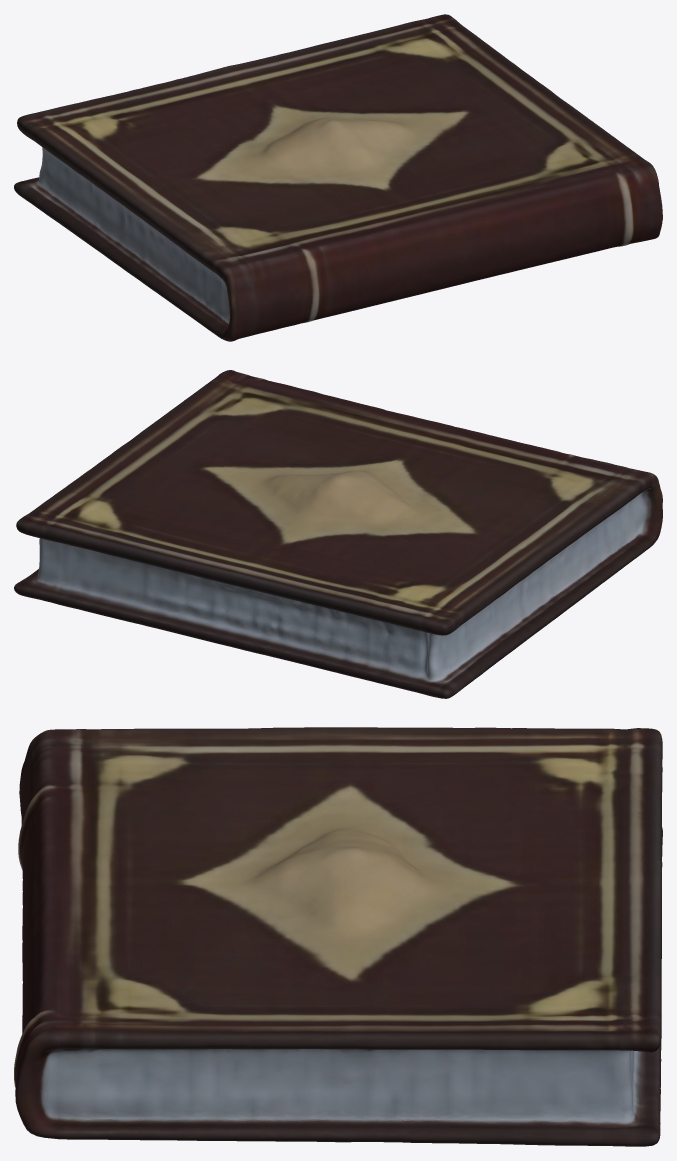
Rendered from closedBook.glb.
3 views of the same model, one above another, from view 1: azimuth 30°, elevation 25°; view 2: azimuth 150°, elevation 25°; view 3: azimuth 270°, elevation 25° (orthographic). The views are drawn at different scales.
Parts seen in each view (by area): view 1: high_poly_0; view 2: high_poly_0; view 3: high_poly_0.
Part boxes in pixels (x1,y1,x2,y2): high_poly_0: (14, 14, 662, 341); high_poly_0: (14, 370, 662, 698); high_poly_0: (14, 727, 662, 1146).
Bounding box in the file's own units: 1 × 0.2072 × 0.8731.
Materials: 1 (1 with a texture image).
